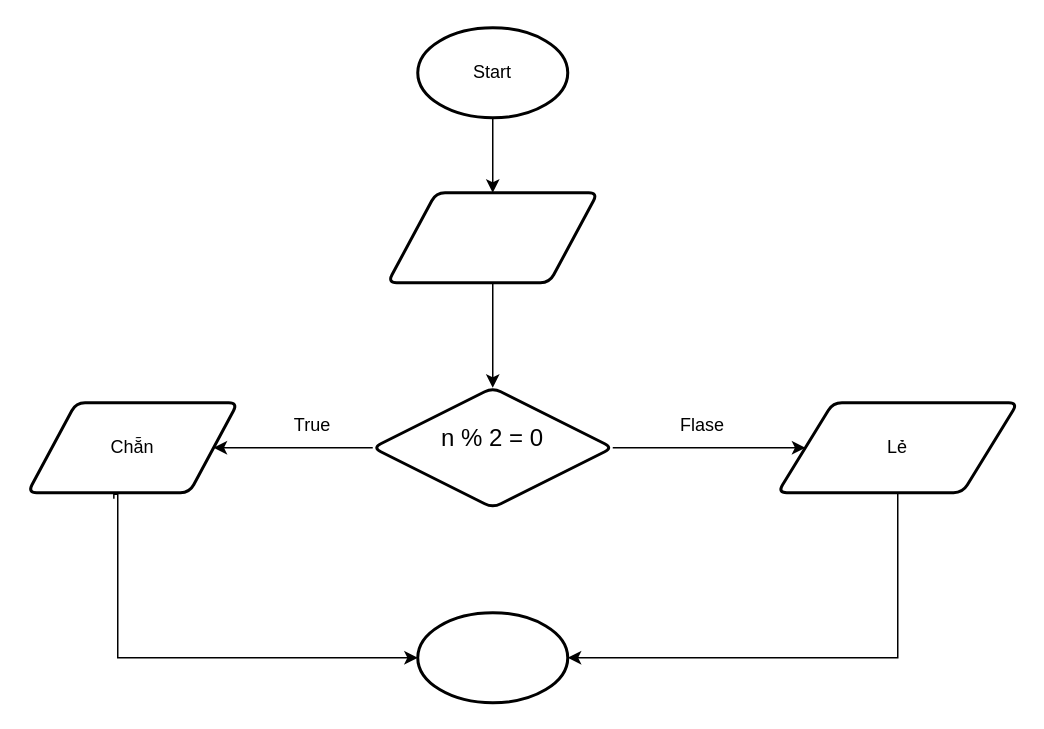
This 1044x729 diagram has some shape labels left out. The box of each missing label's shape, as (x1, y1, x2, y2) in pixels:
End: (416, 610, 568, 704)
Input n: (386, 190, 598, 284)
